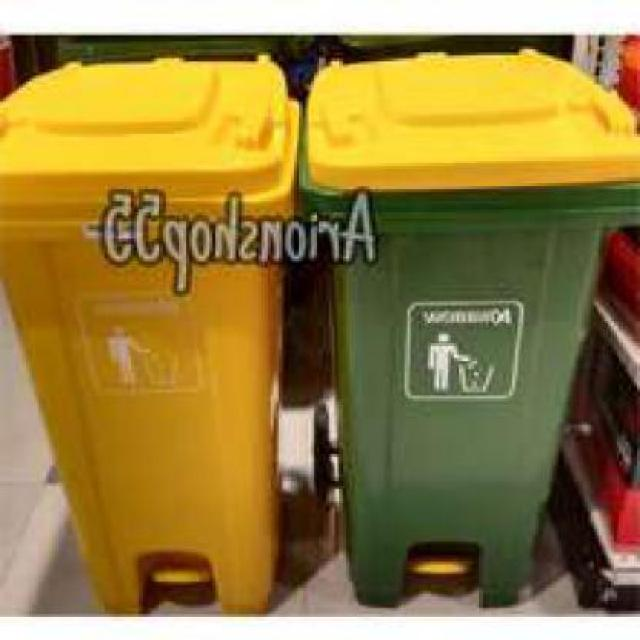garbage container: (306, 49, 637, 623), (2, 49, 306, 637)
